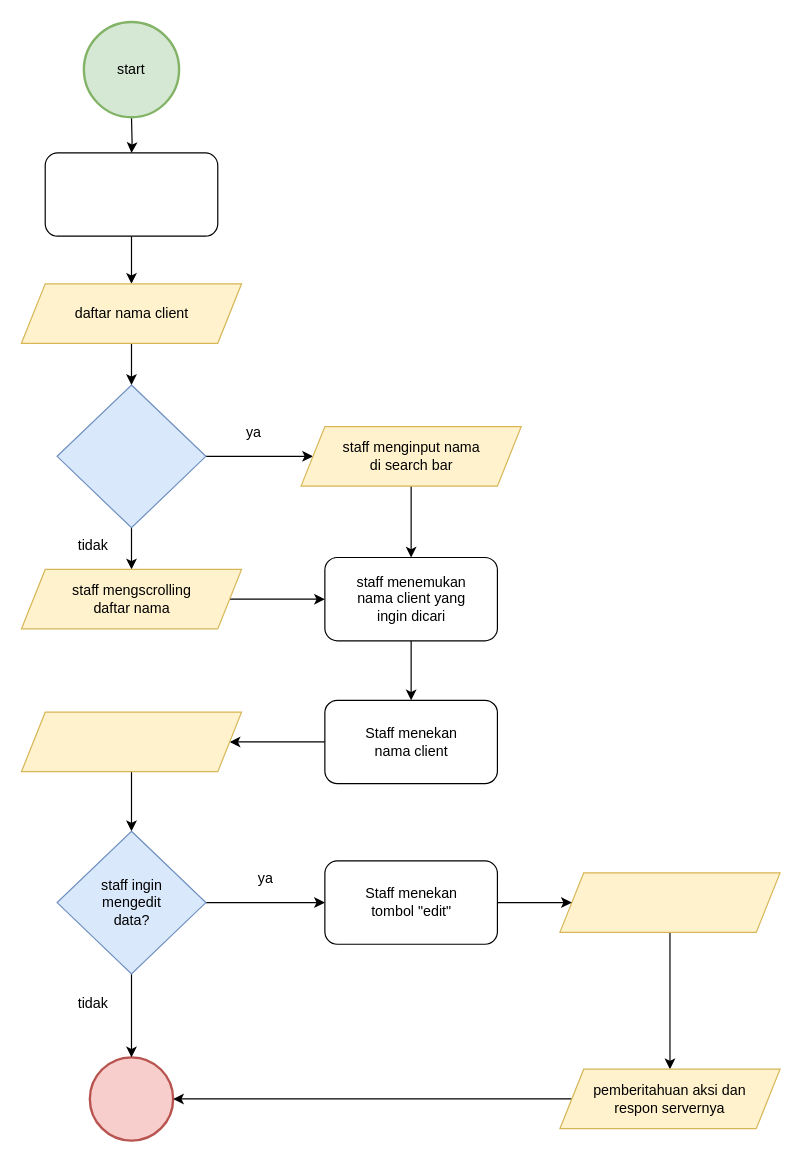
Some shapes in this 801 by 1161 pixel diagram are drawn without their labels. Each missing label, with the box of its shape:
End: (88, 1056, 174, 1141)
Informasi dan data detail milik client: (20, 711, 242, 772)
staff ingin mencari nama spesifik?: (56, 384, 206, 528)
Staff membuka tab "clients": (44, 152, 218, 236)
Staff mengedit data dan menyimpan perubahan: (559, 872, 780, 932)
